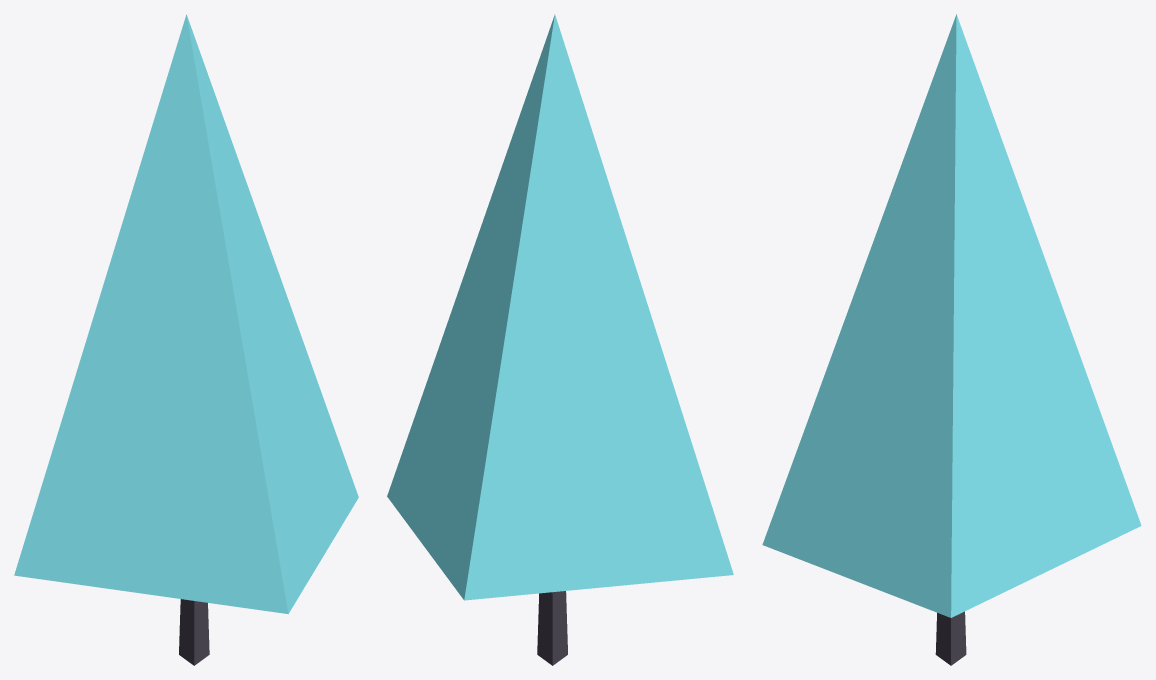
The model's file is snow_conifer_far.glb.
The picture shows the model from 3 angles, left to right: view 1: azimuth 30°, elevation 25°; view 2: azimuth 150°, elevation 25°; view 3: azimuth 270°, elevation 25°; orthographic projection.
Visible parts, largest first — view 1: snow_conifer_far; view 2: snow_conifer_far; view 3: snow_conifer_far.
Boxes of the visible parts, box(x1,y1,x2,y2) form: snow_conifer_far: box(14, 14, 358, 665); snow_conifer_far: box(387, 14, 733, 665); snow_conifer_far: box(762, 14, 1141, 665).
Bounding box in the file's own units: 1.79 × 3.2 × 1.71.
